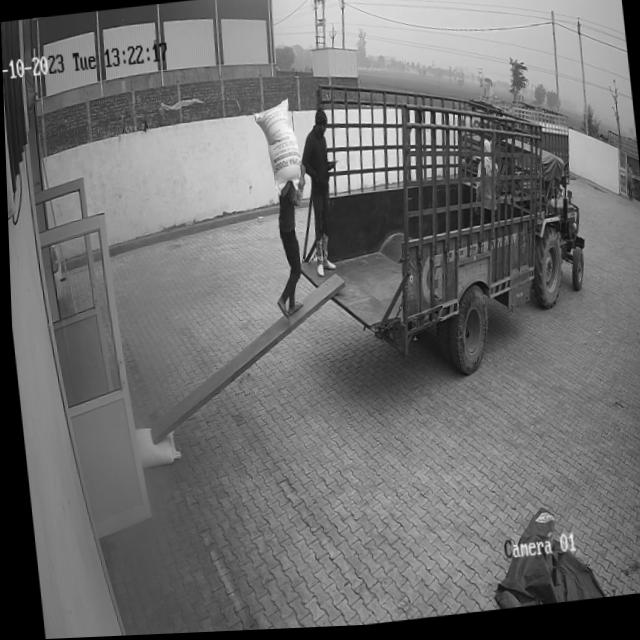sack: (250, 99, 301, 199), (131, 425, 178, 469)
